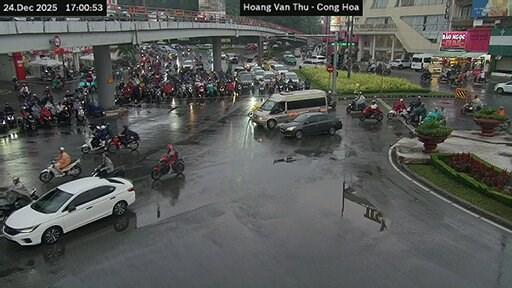motorbike: (0, 187, 38, 220), (39, 158, 79, 181), (150, 153, 184, 179), (106, 135, 138, 152), (80, 136, 108, 152), (358, 107, 383, 121), (16, 112, 35, 130), (90, 166, 124, 176), (39, 107, 53, 127), (85, 104, 105, 117), (57, 106, 70, 124), (345, 100, 364, 112), (405, 113, 422, 126), (248, 102, 262, 117), (387, 108, 408, 118), (5, 112, 16, 127), (0, 112, 9, 130), (461, 100, 473, 113), (76, 107, 85, 124), (195, 82, 204, 97), (51, 77, 63, 88), (473, 76, 486, 85), (419, 72, 431, 81), (438, 72, 448, 81), (259, 81, 265, 94), (218, 84, 224, 95)
